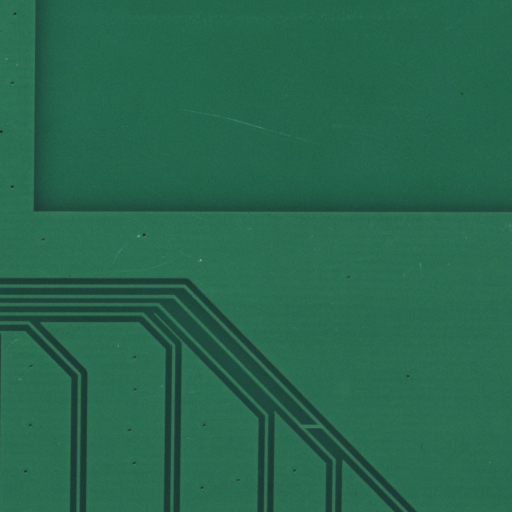Short: (312, 426, 335, 435)
